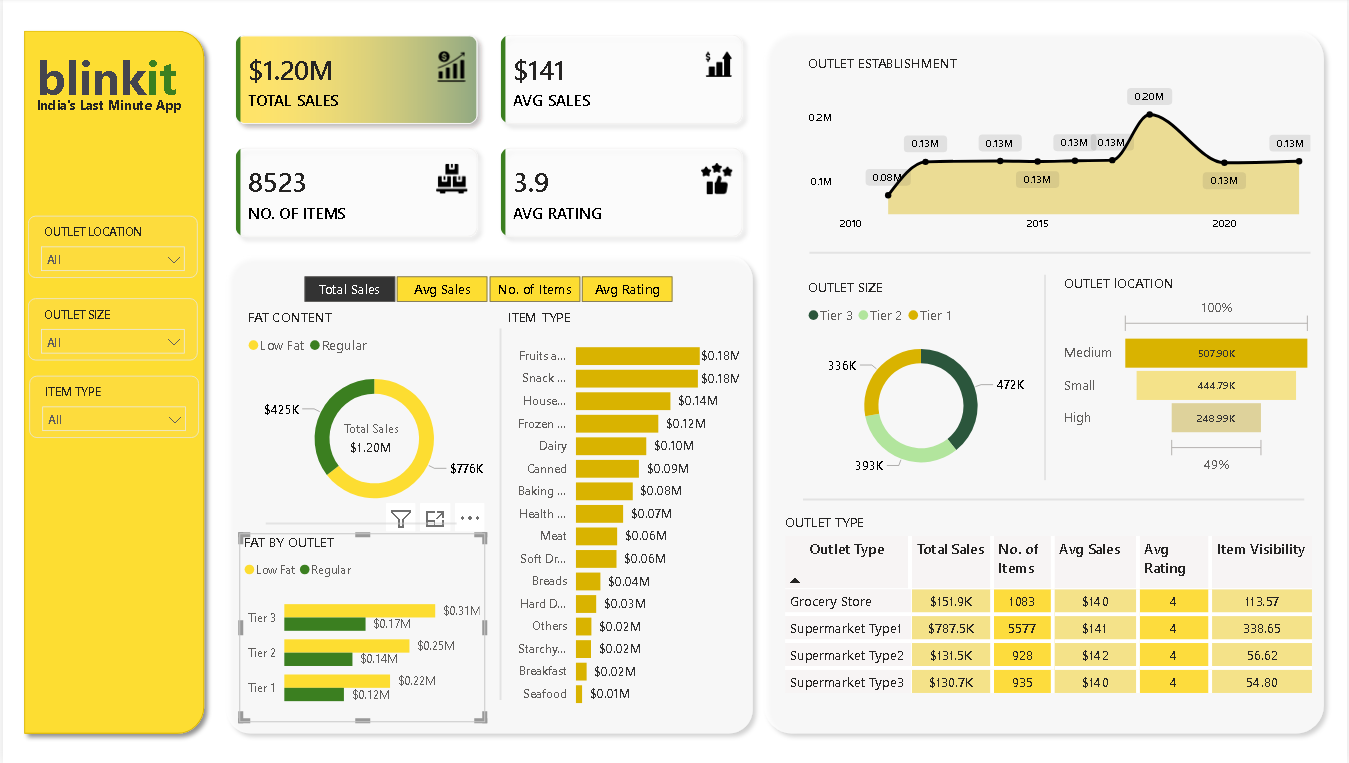

What the dashboard file says about the page in this screenshot:
{"tool":"powerbi","page":{"name":"Page 1","canvas":[1400,800],"ordinal":0},"visuals":[{"type":"shape","box":[13.5,25.5,205.6,750.4],"z":0},{"type":"textbox","box":[13.5,45,190.6,76.5],"z":1000},{"type":"textbox","box":[13.5,99.1,195.1,67.5],"z":2000},{"type":"cardVisual","fields":{"Data":["BlinkIT Grocery Data.Total Sales","BlinkIT Grocery Data.Avg Sales","BlinkIT Grocery Data.No. of Items","BlinkIT Grocery Data.Avg Rating"]},"box":[213,10.7,587.4,269.3],"z":3000},{"type":"shape","box":[223.7,260.2,566.1,515.9],"z":4000},{"type":"donutChart","title":"FAT CONTENT","fields":{"Y":["BlinkIT Grocery Data.Avg Rating"],"Category":["BlinkIT Grocery Data.Item Fat Content"]},"box":[249.6,324.1,273.9,223.7],"z":5000},{"type":"slicer","fields":{"Values":["Metrics.Metrics"]},"box":[288.2,283.7,433.7,40.5],"z":6000},{"type":"cardVisual","fields":{"Data":["BlinkIT Grocery Data.Avg Rating"]},"box":[322.6,421.5,121.7,76.1],"z":7000},{"type":"clusteredBarChart","title":"FAT BY OUTLET","fields":{"Y":["BlinkIT Grocery Data.Avg Rating"],"Category":["BlinkIT Grocery Data.Outlet Location Type"],"Series":["BlinkIT Grocery Data.Item Fat Content"]},"box":[246.5,558.5,255.7,196.3],"z":8000},{"type":"shape","box":[273.9,537.2,199.3,21.3],"z":9000},{"type":"shape","box":[513.3,345.2,10.5,387.2],"z":10000},{"type":"barChart","title":"ITEM TYPE","fields":{"Y":["BlinkIT Grocery Data.Avg Rating"],"Category":["BlinkIT Grocery Data.Item Type"]},"box":[520.4,324.1,251.1,426.1],"z":11000},{"type":"shape","box":[783.7,25.9,601.1,750.2],"z":12000},{"type":"lineChart","title":"OUTLET ESTABLISHMENT","fields":{"Y":["Sum(BlinkIT Grocery Data.Sales)"],"Category":["BlinkIT Grocery Data.Outlet Establishment Year"]},"box":[833,60,534,193.6],"z":13000},{"type":"shape","box":[840.5,253,522.3,27.6],"z":14000},{"type":"donutChart","title":"OUTLET SIZE","fields":{"Y":["Sum(BlinkIT Grocery Data.Sales)"],"Category":["BlinkIT Grocery Data.Outlet Location Type"]},"box":[833,292.7,246.1,217.6],"z":15000},{"type":"shape","box":[1079.1,289.7,12,214.6],"z":16000},{"type":"funnel","title":"OUTLET lOCATION","fields":{"Y":["Sum(BlinkIT Grocery Data.Sales)"],"Category":["BlinkIT Grocery Data.Outlet Size"]},"box":[1100.1,289.7,268.7,213.1],"z":17000},{"type":"shape","box":[833,508.8,522.3,28.5],"z":18000},{"type":"pivotTable","title":"OUTLET TYPE","fields":{"Rows":["BlinkIT Grocery Data.Outlet Type"],"Values":["BlinkIT Grocery Data.Total Sales","BlinkIT Grocery Data.No. of Items","BlinkIT Grocery Data.Avg Sales","BlinkIT Grocery Data.Avg Rating","Sum(BlinkIT Grocery Data.Item Visibility)"]},"box":[810.5,537.3,561.3,217.6],"z":19000},{"type":"slicer","fields":{"Values":["BlinkIT Grocery Data.Outlet Location Type"]},"box":[26,227.9,177.1,65],"z":20000},{"type":"slicer","fields":{"Values":["BlinkIT Grocery Data.Outlet Size"]},"box":[26,313.8,177.1,65],"z":21000},{"type":"slicer","fields":{"Values":["BlinkIT Grocery Data.Item Type"]},"box":[27.3,394.5,177.1,65],"z":22000}]}

Visuals, with their boxes in screenshot pixels (x1, y1, x2, y2), scaled from the page's 1400x800 canvas onto the 1349x763 screenshot:
shape: <box>13,24,211,740</box>
textbox: <box>13,43,197,116</box>
textbox: <box>13,95,201,159</box>
cardVisual - BlinkIT Grocery Data.Total Sales x BlinkIT Grocery Data.Avg Sales: <box>205,10,771,267</box>
shape: <box>216,248,761,740</box>
"FAT CONTENT" donutChart: <box>241,309,504,522</box>
slicer - Metrics.Metrics: <box>278,271,696,309</box>
cardVisual - BlinkIT Grocery Data.Avg Rating: <box>311,402,428,475</box>
"FAT BY OUTLET" clusteredBarChart: <box>238,533,484,720</box>
shape: <box>264,512,456,533</box>
shape: <box>495,329,505,699</box>
"ITEM TYPE" barChart: <box>501,309,743,716</box>
shape: <box>755,25,1334,740</box>
"OUTLET ESTABLISHMENT" lineChart: <box>803,57,1317,242</box>
shape: <box>810,241,1313,268</box>
"OUTLET SIZE" donutChart: <box>803,279,1040,487</box>
shape: <box>1040,276,1051,481</box>
"OUTLET lOCATION" funnel: <box>1060,276,1319,480</box>
shape: <box>803,485,1306,512</box>
"OUTLET TYPE" pivotTable: <box>781,512,1322,720</box>
slicer - BlinkIT Grocery Data.Outlet Location Type: <box>25,217,196,279</box>
slicer - BlinkIT Grocery Data.Outlet Size: <box>25,299,196,361</box>
slicer - BlinkIT Grocery Data.Item Type: <box>26,376,197,438</box>
